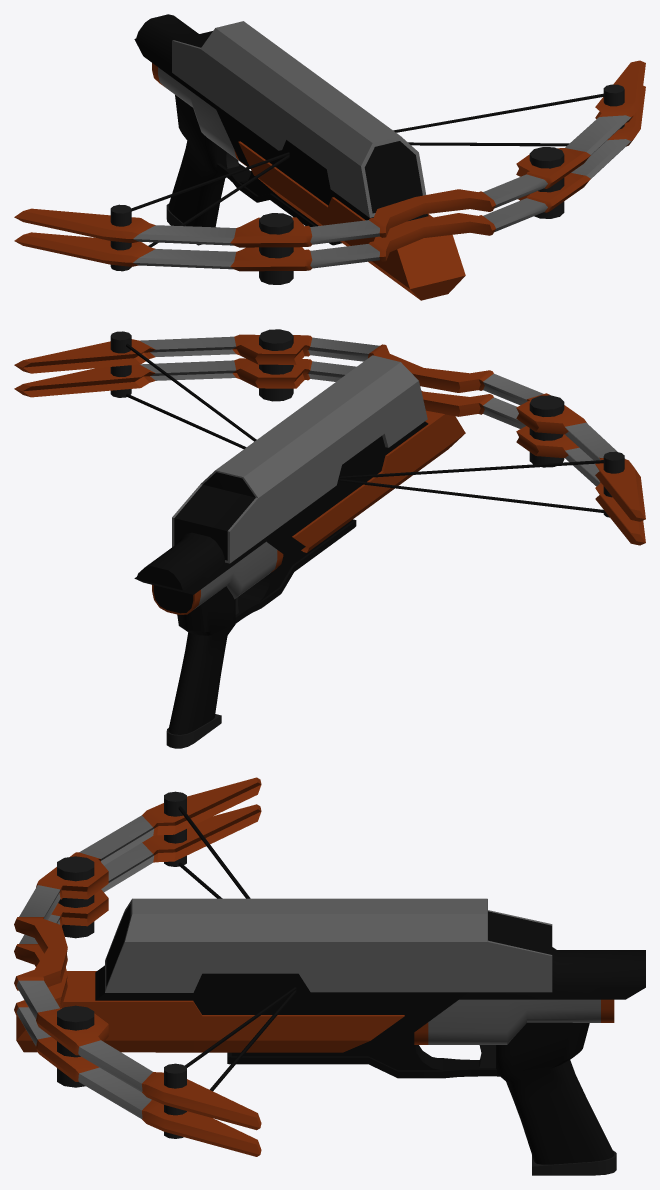
The model's file is Crossbow_2.fbx.
3 views of the same model, one above another, from view 1: azimuth 30°, elevation 25°; view 2: azimuth 150°, elevation 25°; view 3: azimuth 270°, elevation 25° (orthographic). The views are drawn at different scales.
Visible parts, largest first — view 1: Crossbow_2; view 2: Crossbow_2; view 3: Crossbow_2.
Part boxes in pixels (box(x1,y1,x2,y2)): Crossbow_2: box(14, 14, 645, 300); Crossbow_2: box(14, 329, 645, 748); Crossbow_2: box(14, 777, 645, 1175).
Size of the model in its own units: 1.92 by 0.6749 by 1.47.
